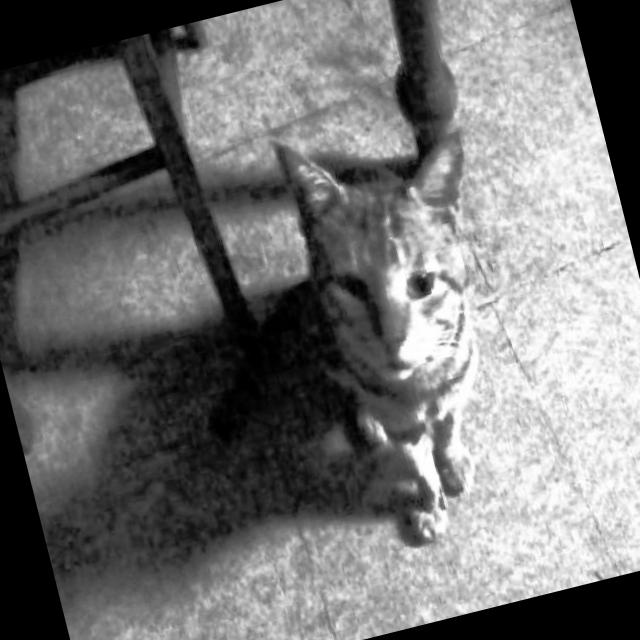Cat: (142, 91, 559, 590)
